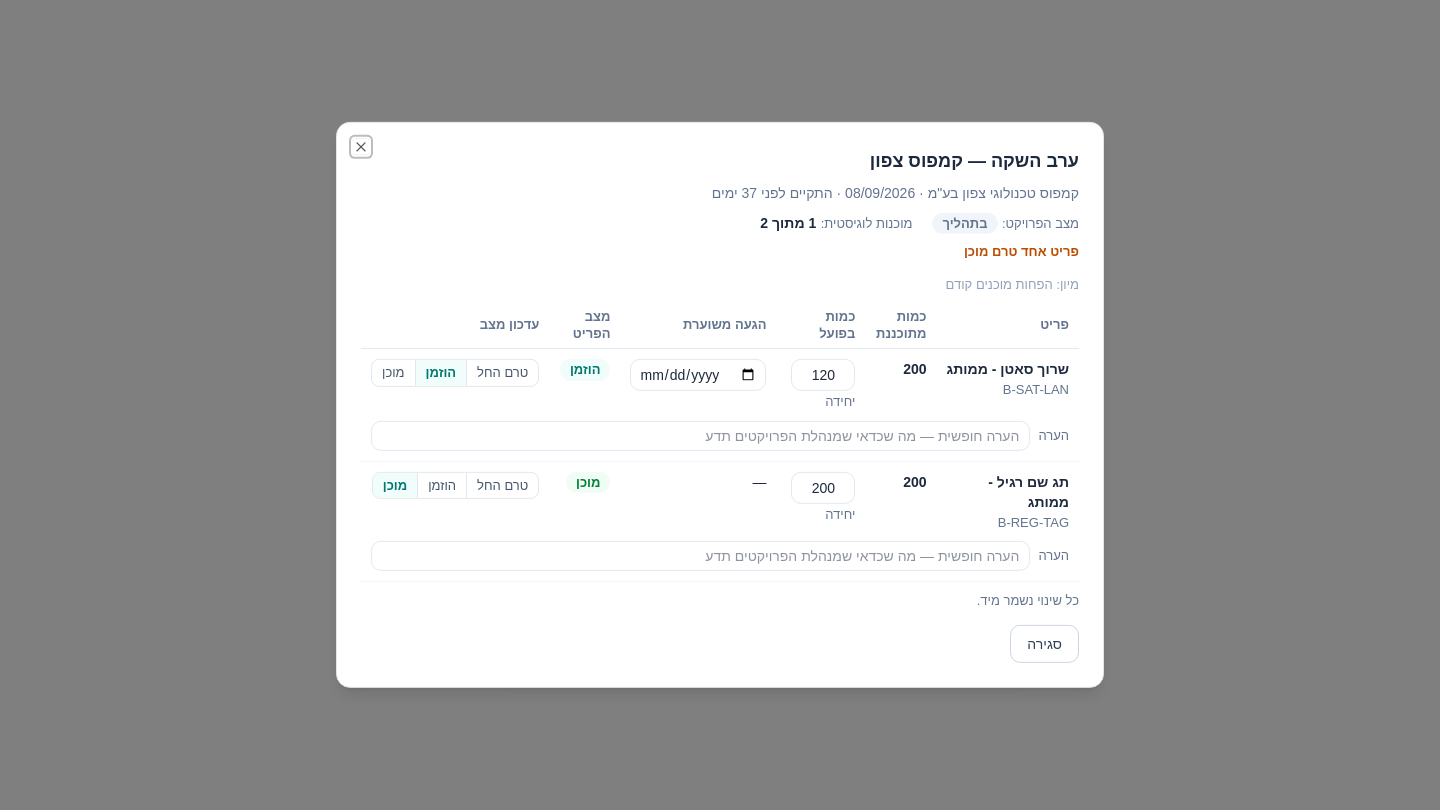
Test case: ChecklistDialog — ⑬ באנר ההשלמה › חוסר בפריט אחד — שם-הפריט במרכאות (O-5)
Expected: the row with test id "checklist-row-B-SAT-LAN-1" is shown, [361,349,1079,420]
Click the button with test id "checklist-status-B-SAT-LAN-1-ready" at {"x": 393, "y": 373}, box [372,360,414,386]
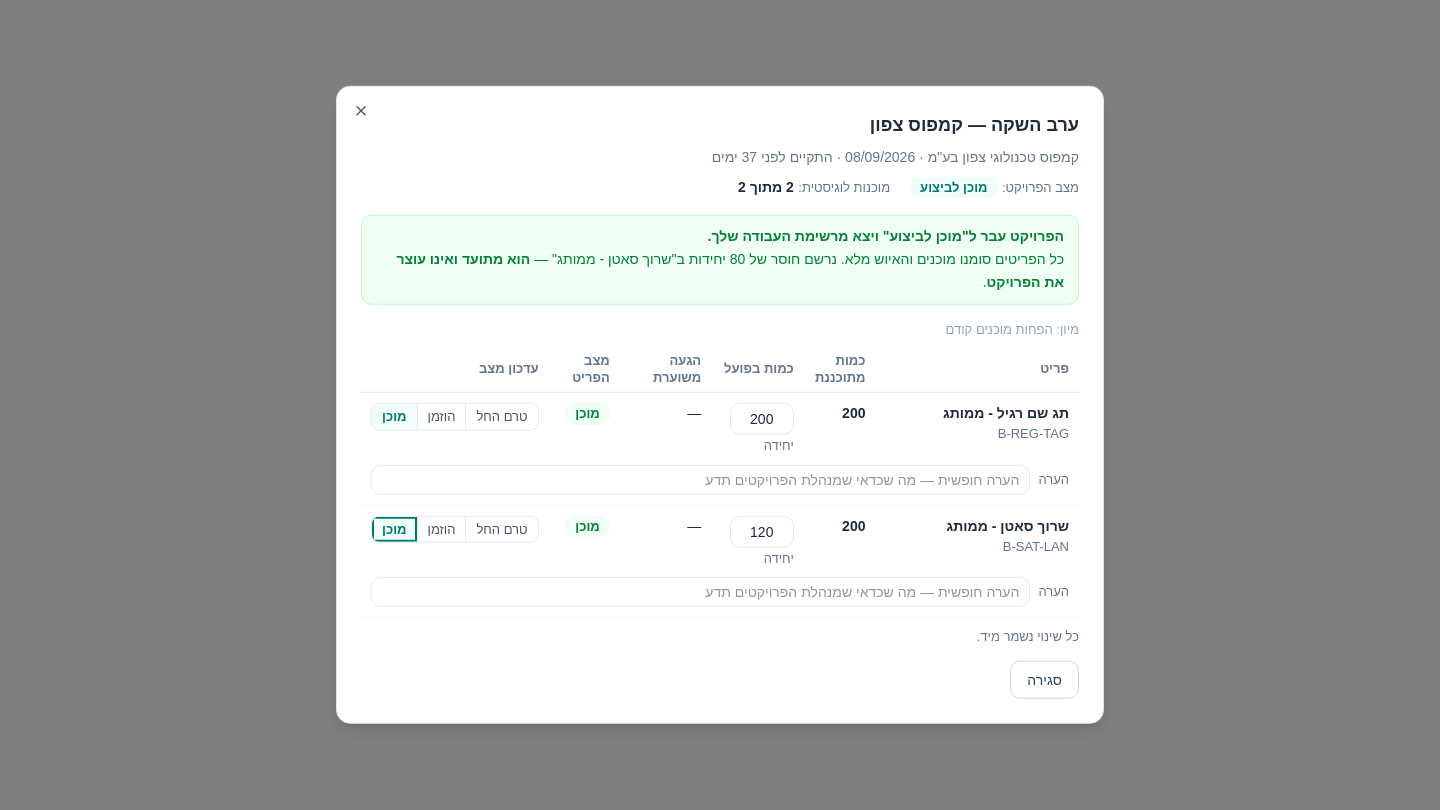
Expected: the message with test id "checklist-banner-complete" shows "הפרויקט עבר ל\"מוכן לביצוע\" ויצא מרשימת העבודה שלך.", [708,228,1064,244]
Expected: the message with test id "checklist-banner-complete" shows "כל הפריטים סומנו מוכנים והאיוש מלא.", [841,251,1064,267]
Expected: the element with test id "checklist-shortfall" reads "נרשם חוסר של 80 יחידות ב\"שרוך סאטן - ממותג\" — הוא מתועד ואינו עוצר את הפרויקט.", [396,251,1064,290]
